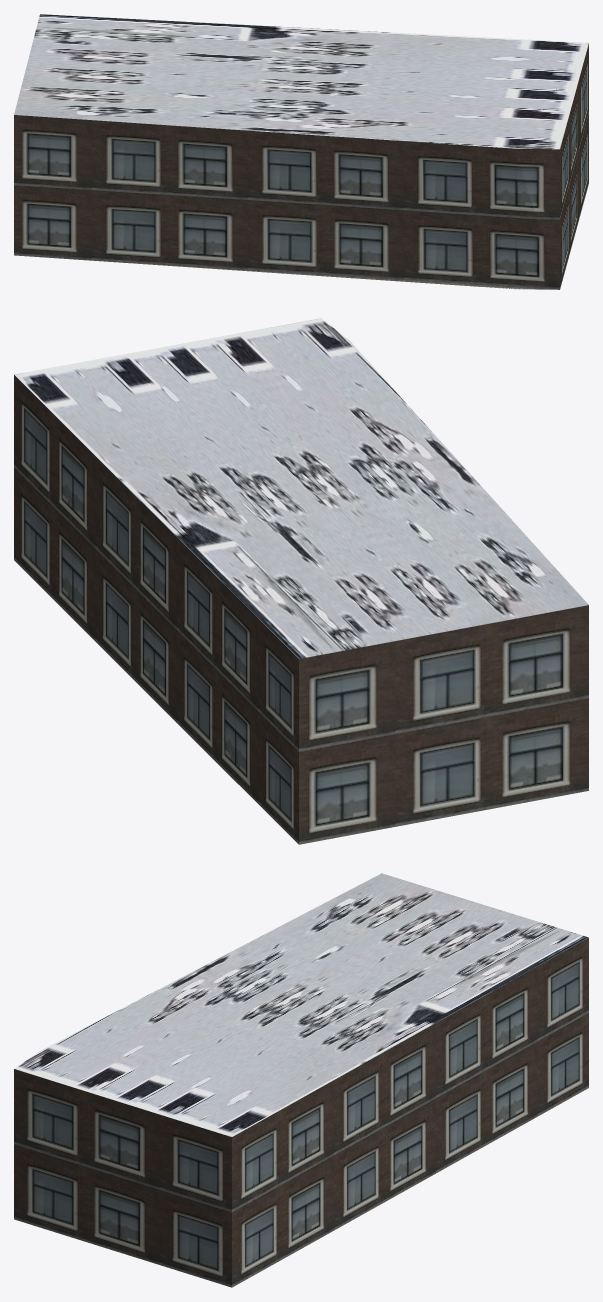
Rendered from ResTex__996.fbx.
3 views of the same model, one above another, from view 1: azimuth 30°, elevation 25°; view 2: azimuth 150°, elevation 25°; view 3: azimuth 270°, elevation 25° (orthographic). The views are drawn at different scales.
Visible parts, largest first — view 1: CityEngineMaterial_16_m, CityEngineMaterial_15_m; view 2: CityEngineMaterial_16_m, CityEngineMaterial_15_m; view 3: CityEngineMaterial_16_m, CityEngineMaterial_15_m.
Boxes of the visible parts, x1=… form: CityEngineMaterial_16_m: x1=14, y1=43, x2=588, y2=289; CityEngineMaterial_15_m: x1=14, y1=14, x2=588, y2=289; CityEngineMaterial_16_m: x1=14, y1=375, x2=588, y2=844; CityEngineMaterial_15_m: x1=14, y1=318, x2=588, y2=658; CityEngineMaterial_16_m: x1=14, y1=937, x2=588, y2=1287; CityEngineMaterial_15_m: x1=14, y1=873, x2=588, y2=1136.
Bounding box in the file's own units: 22.56 × 6 × 20.77.
Materials: 2 (2 with a texture image).
